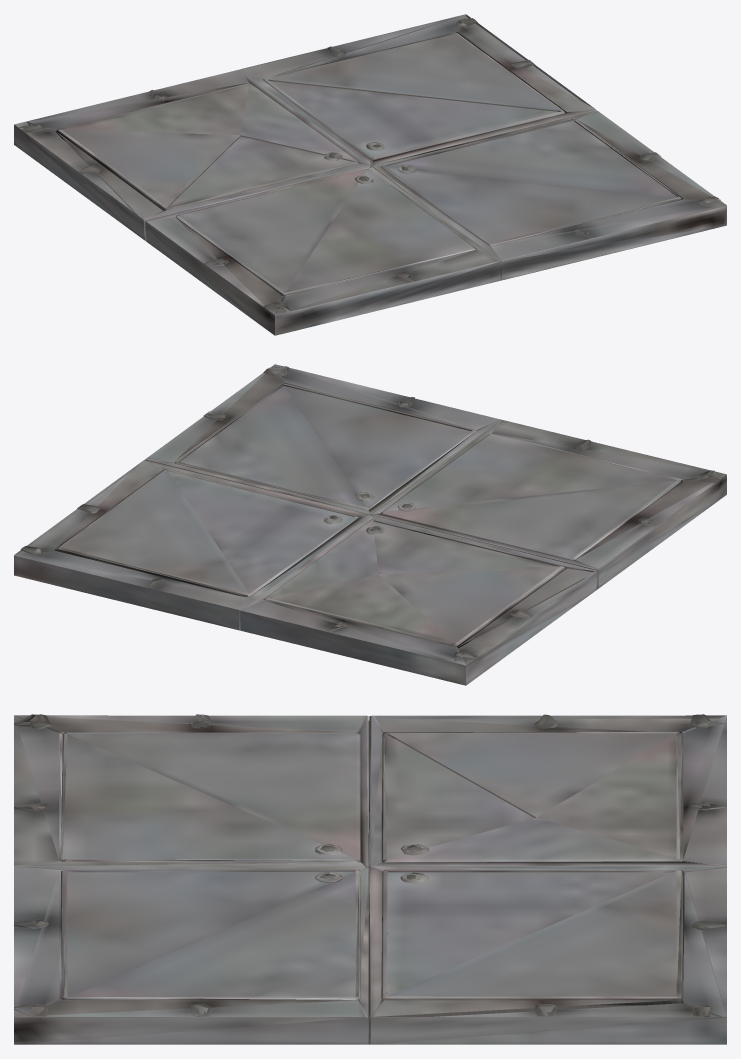
Rendered from floor-plate.lod1.glb.
The picture shows the model from 3 angles, top to bottom: view 1: azimuth 30°, elevation 25°; view 2: azimuth 150°, elevation 25°; view 3: azimuth 270°, elevation 25°; orthographic projection. The views are drawn at different scales.
Size of the model in its own units: 2 by 0.0997 by 2.
Materials: 1 (1 with a texture image).
